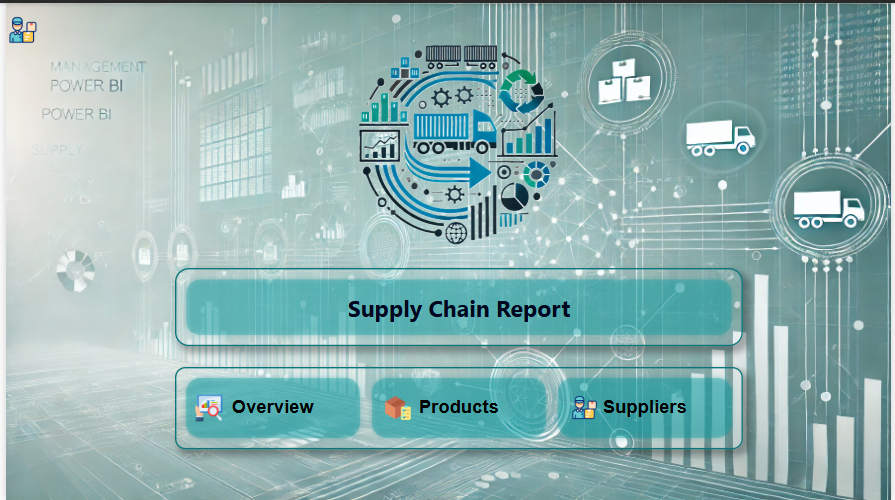

The dashboard page shown, as its layout file describes it:
{"tool":"powerbi","page":{"name":"Cover","canvas":[1280,720],"ordinal":0},"visuals":[{"type":"image","box":[460.2,14.2,388.4,378.6],"z":0},{"type":"pageNavigator","title":"Lets ","box":[243.8,525.8,821.1,118.8],"z":2000},{"type":"shape","box":[243.8,383.1,821.1,113.5],"z":3000},{"type":"image","box":[269.6,561.3,49.7,49],"z":4000},{"type":"image","box":[541.8,561.3,48.8,48.8],"z":5000},{"type":"image","box":[0,14,49,49],"z":6000},{"type":"image","box":[814,556.6,44.8,56.4],"z":6001}]}

Visuals, with their boxes in screenshot pixels (x1, y1, x2, y2), scaled from the page's 1280x720 canvas onto the 895x500 screenshot:
image: <region>322, 10, 593, 273</region>
"Lets " pageNavigator: <region>170, 365, 745, 448</region>
shape: <region>170, 266, 745, 345</region>
image: <region>189, 390, 223, 424</region>
image: <region>379, 390, 413, 424</region>
image: <region>0, 10, 34, 44</region>
image: <region>569, 387, 600, 426</region>
